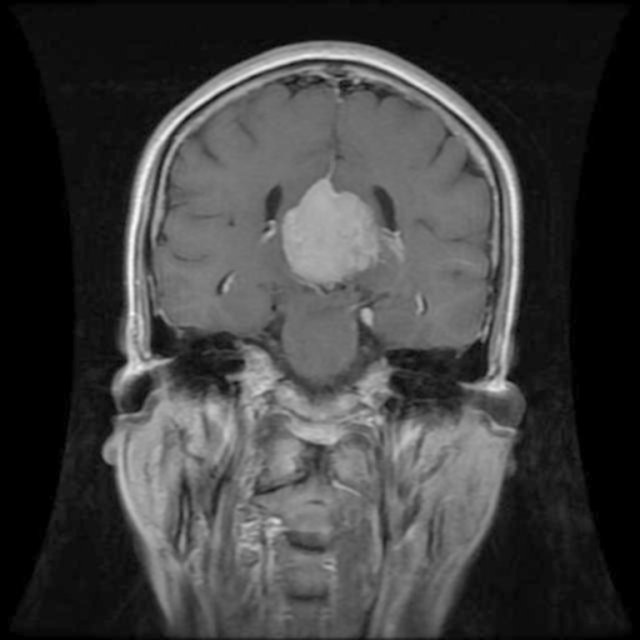meningioma tumor: (276, 182, 415, 292)
